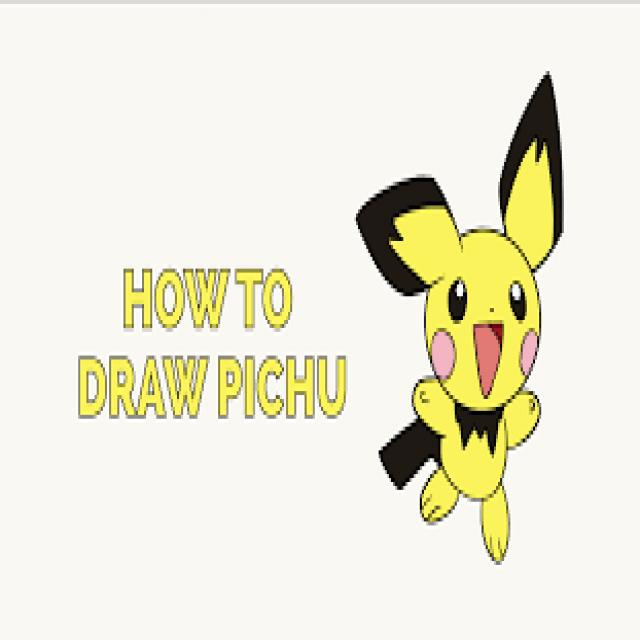pichu: (350, 57, 568, 563)
